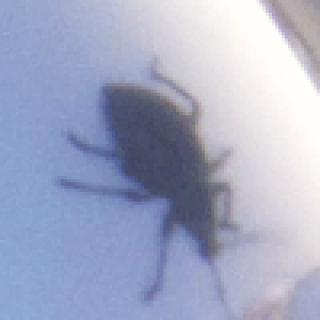bvw: (58, 57, 257, 316)
